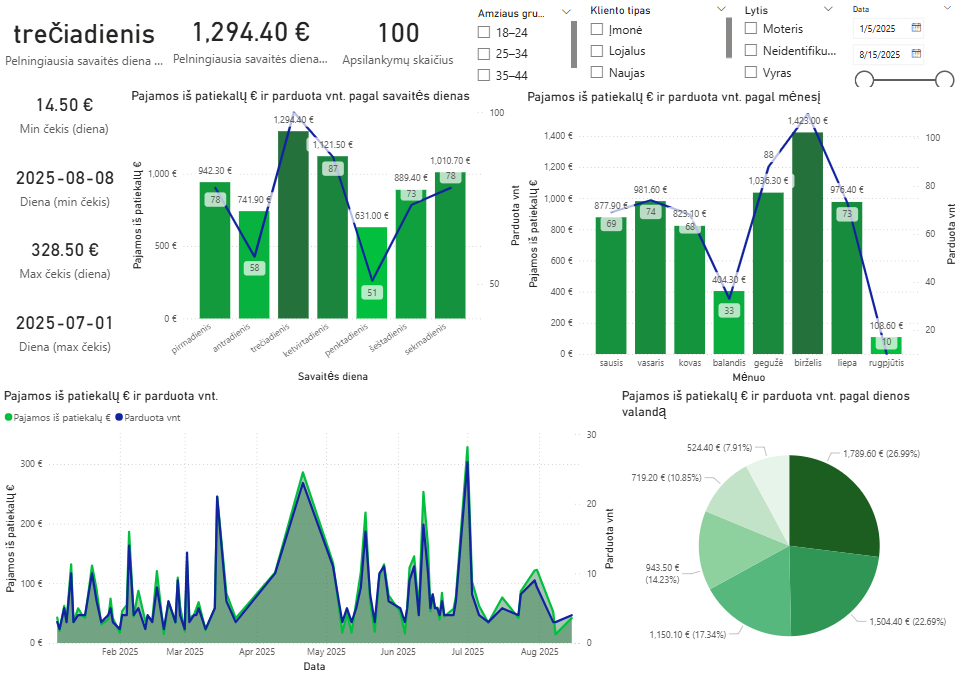

What the dashboard file says about the page in this screenshot:
{"tool":"powerbi","page":{"name":"Laiko apžvalga","canvas":[1280,900],"ordinal":5},"visuals":[{"type":"lineStackedColumnComboChart","title":"Pajamos iš patiekalų € ir parduota vnt. pagal mėnesį","fields":{"Y":["Matuokliai.Pajamos iš patiekalų €"],"Y2":["Matuokliai.Parduota vnt"],"Category":["Kalendorius2.MonthName_LT"]},"box":[698.3,118.3,581.7,396.7],"z":0},{"type":"lineStackedColumnComboChart","title":"Pajamos iš patiekalų € ir parduota vnt. pagal savaitės dienas","fields":{"Y":["Matuokliai.Pajamos iš patiekalų €"],"Y2":["Matuokliai.Parduota vnt"],"Category":["Kalendorius2.WeekdayName_LT"]},"box":[170,116.7,528.3,398.3],"z":1000},{"type":"areaChart","title":"Pajamos iš patiekalų € ir parduota vnt.","fields":{"Y":["Matuokliai.Pajamos iš patiekalų €"],"Y2":["Matuokliai.Parduota vnt"],"Category":["Kalendorius2.Date"]},"box":[0,516,824,384],"z":2000},{"type":"slicer","fields":{"Values":["restoranas_db pardavimai.Data_date"]},"box":[1123.3,0,156.7,116.7],"z":3000},{"type":"slicer","fields":{"Values":["restoranas_db apsilankymai.Lytis_label"]},"box":[980,0,143.3,116.7],"z":4000},{"type":"slicer","fields":{"Values":["restoranas_db apsilankymai.Kliento_tipas_label"]},"box":[773.3,0,206.7,116.7],"z":5000},{"type":"slicer","fields":{"Values":["restoranas_db klientai.Amziaus_grupe"]},"box":[623.3,1.7,150,116.7],"z":6000},{"type":"card","fields":{"Values":["Matuokliai.Apsilankymų skaičius"]},"box":[435,0,188.3,101.7],"z":7000},{"type":"card","fields":{"Values":["Matuokliai.Max čekis (diena)"]},"box":[1.7,291.7,168.3,101.7],"z":8000},{"type":"card","fields":{"Values":["Matuokliai.Min čekis (diena)"]},"box":[0,98.3,170,101.7],"z":9000},{"type":"card","fields":{"Values":["Matuokliai.Diena (min čekis)"]},"box":[1.7,200,168.3,91.7],"z":10000},{"type":"card","fields":{"Values":["Matuokliai.Diena (max čekis)"]},"box":[1.7,393.3,168.3,91.7],"z":11000},{"type":"card","fields":{"Values":["Matuokliai.Pelningiausia savaitės diena (pajamos)"]},"box":[223.3,0,218.3,98.3],"z":12000},{"type":"card","fields":{"Values":["Matuokliai.Pelningiausia savaitės diena (pavadinimas)"]},"box":[0,1.7,223.3,100],"z":13000},{"type":"pieChart","title":"Pajamos iš patiekalų € ir parduota vnt. pagal dienos valandą","fields":{"Category":["restoranas_db pardavimai.Valanda"],"Y":["Matuokliai.Pajamos iš patiekalų €"]},"box":[824,516,456,384],"z":14000}]}

Visuals, with their boxes in screenshot pixels (x1, y1, x2, y2), scaled from the page's 1280x900 canvas onto the 958x675 screenshot:
"Pajamos iš patiekalų € ir parduota vnt. pagal mėnesį" lineStackedColumnComboChart: bbox=(523, 89, 957, 386)
"Pajamos iš patiekalų € ir parduota vnt. pagal savaitės dienas" lineStackedColumnComboChart: bbox=(127, 88, 523, 386)
"Pajamos iš patiekalų € ir parduota vnt." areaChart: bbox=(0, 387, 617, 674)
slicer - restoranas_db pardavimai.Data_date: bbox=(841, 0, 957, 88)
slicer - restoranas_db apsilankymai.Lytis_label: bbox=(733, 0, 841, 88)
slicer - restoranas_db apsilankymai.Kliento_tipas_label: bbox=(579, 0, 733, 88)
slicer - restoranas_db klientai.Amziaus_grupe: bbox=(467, 1, 579, 89)
card - Matuokliai.Apsilankymų skaičius: bbox=(326, 0, 467, 76)
card - Matuokliai.Max čekis (diena): bbox=(1, 219, 127, 295)
card - Matuokliai.Min čekis (diena): bbox=(0, 74, 127, 150)
card - Matuokliai.Diena (min čekis): bbox=(1, 150, 127, 219)
card - Matuokliai.Diena (max čekis): bbox=(1, 295, 127, 364)
card - Matuokliai.Pelningiausia savaitės diena (pajamos): bbox=(167, 0, 331, 74)
card - Matuokliai.Pelningiausia savaitės diena (pavadinimas): bbox=(0, 1, 167, 76)
"Pajamos iš patiekalų € ir parduota vnt. pagal dienos valandą" pieChart: bbox=(617, 387, 957, 674)
